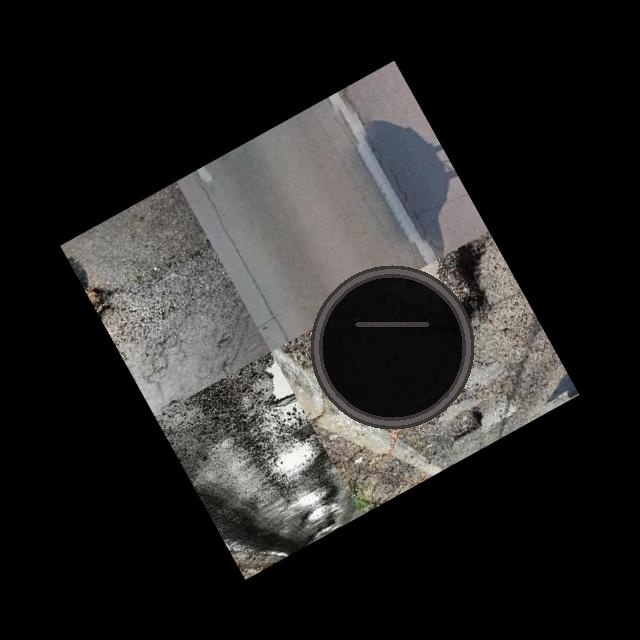open_manhole: (307, 262, 477, 432)
